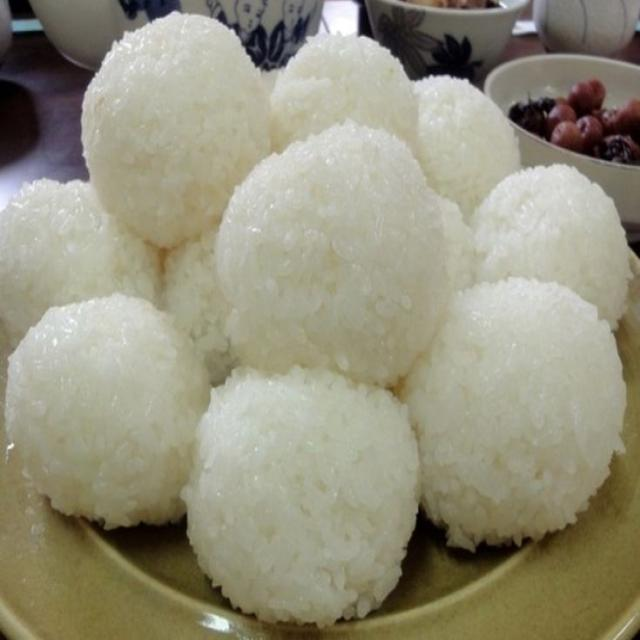rice: (216, 123, 451, 385), (182, 367, 417, 626), (403, 279, 626, 549), (6, 294, 209, 527), (82, 12, 270, 247), (0, 180, 160, 346), (472, 165, 631, 328), (271, 34, 417, 151), (414, 77, 520, 219), (162, 230, 235, 384)
